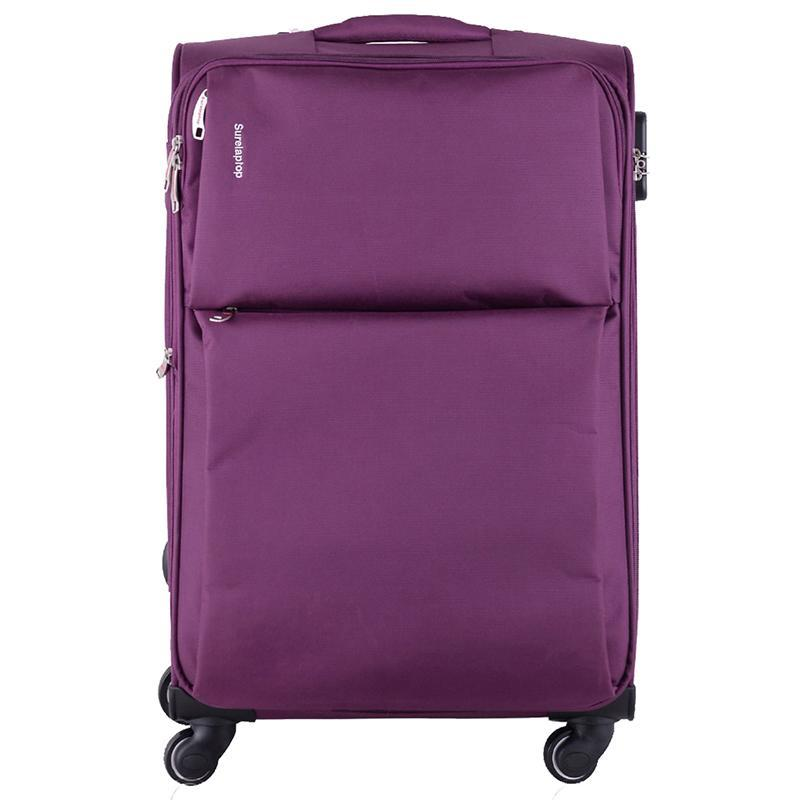luggage: (154, 12, 651, 787)
